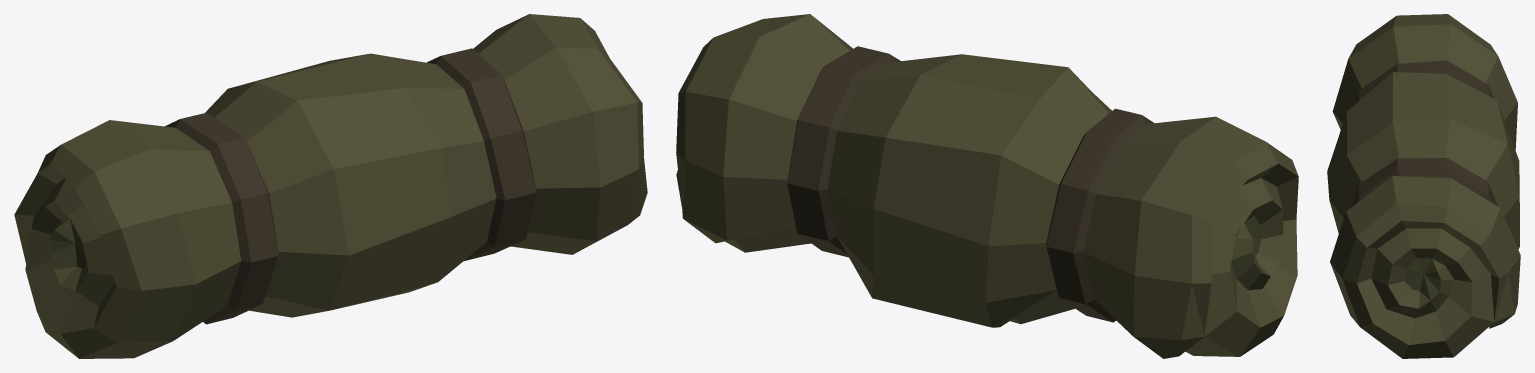
The model's file is SM_Veh_Attach_Cloth_02.fbx.
3 views of the same model, side by side, from view 1: azimuth 30°, elevation 25°; view 2: azimuth 150°, elevation 25°; view 3: azimuth 270°, elevation 25° (orthographic). The views are drawn at different scales.
Visible parts, largest first — view 1: SM_Veh_Attach_Cloth_02; view 2: SM_Veh_Attach_Cloth_02; view 3: SM_Veh_Attach_Cloth_02.
Boxes of the visible parts, x1,y1,x2,y2 form: SM_Veh_Attach_Cloth_02: (14, 14, 647, 358); SM_Veh_Attach_Cloth_02: (676, 14, 1298, 358); SM_Veh_Attach_Cloth_02: (1327, 14, 1520, 358).
Bounding box in the file's own units: 79.89 × 30.09 × 30.33.
